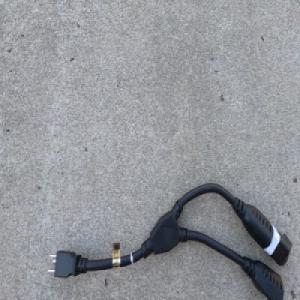Wire: (46, 181, 293, 300)
